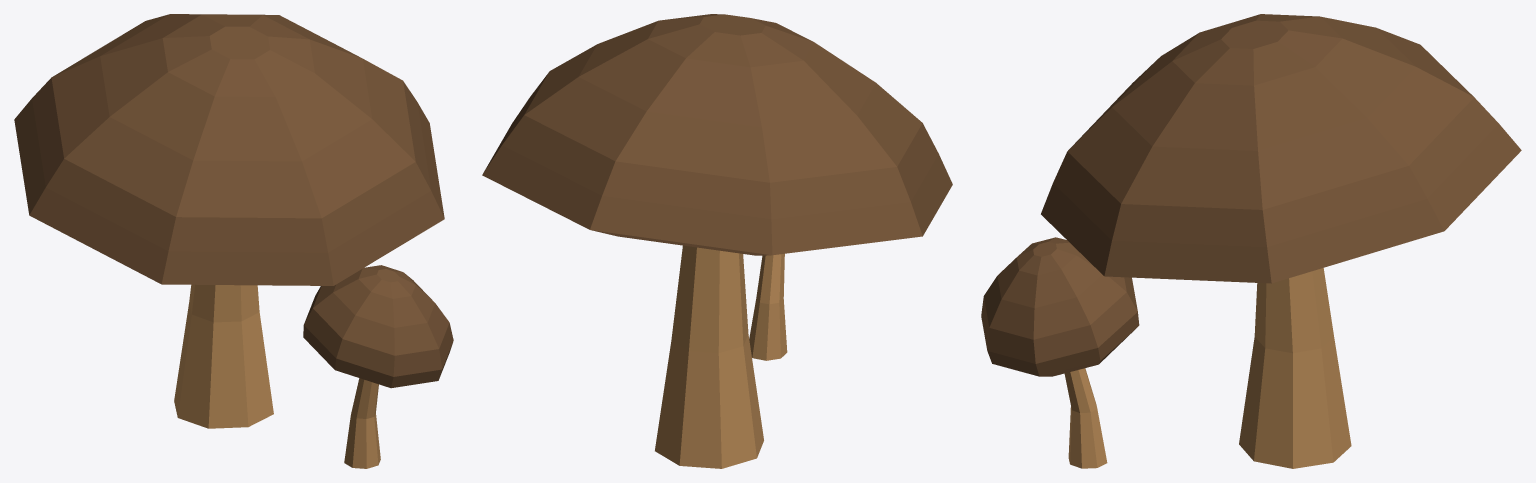
The model's file is RW_mushroom_brown_double.fbx.
3 renders of one model, left to right at view 1: azimuth 30°, elevation 25°; view 2: azimuth 150°, elevation 25°; view 3: azimuth 270°, elevation 25°, orthographic. The views are drawn at different scales.
Parts seen in each view (by area): view 1: Circle.024; view 2: Circle.024; view 3: Circle.024.
Part boxes in pixels (x1,y1,x2,y2): Circle.024: (14,14,453,468); Circle.024: (482,14,952,468); Circle.024: (981,14,1521,468).
Size of the model in its own units: 1.37 by 1.28 by 1.52.
